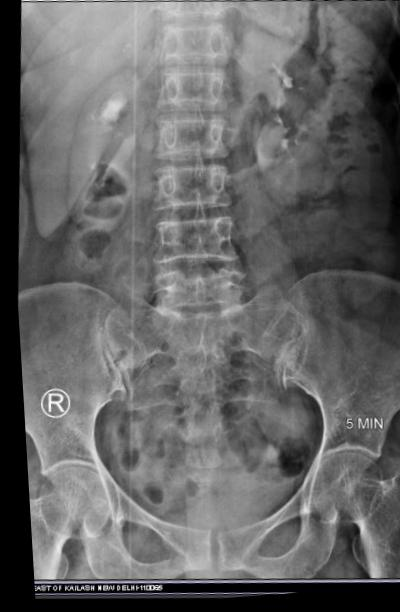bladder: (100, 405, 311, 545)
vertebrae: (153, 66, 230, 121)
